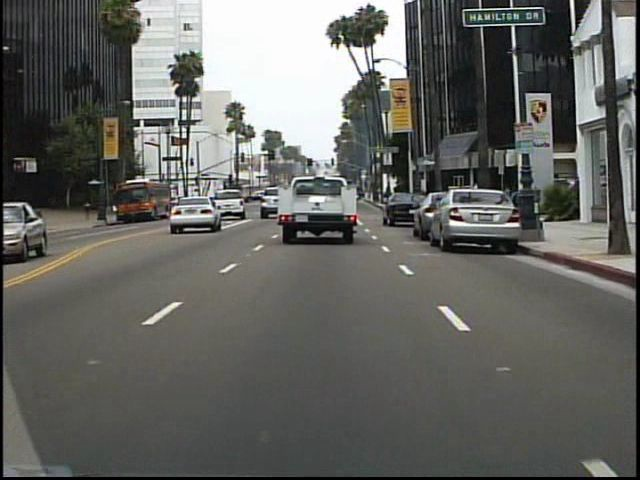person: (82, 198, 94, 225)
